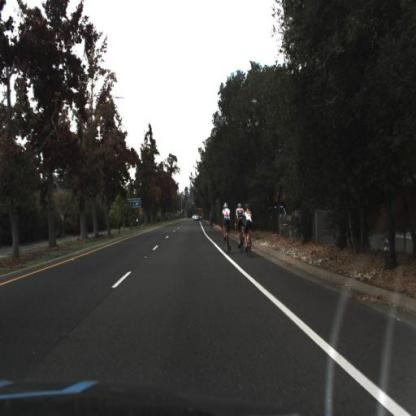biker: (221, 202, 233, 257), (243, 204, 254, 258), (234, 202, 246, 250), (208, 211, 216, 233)
car: (263, 204, 291, 238)
